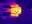Hotspot: (11, 4, 22, 17)
